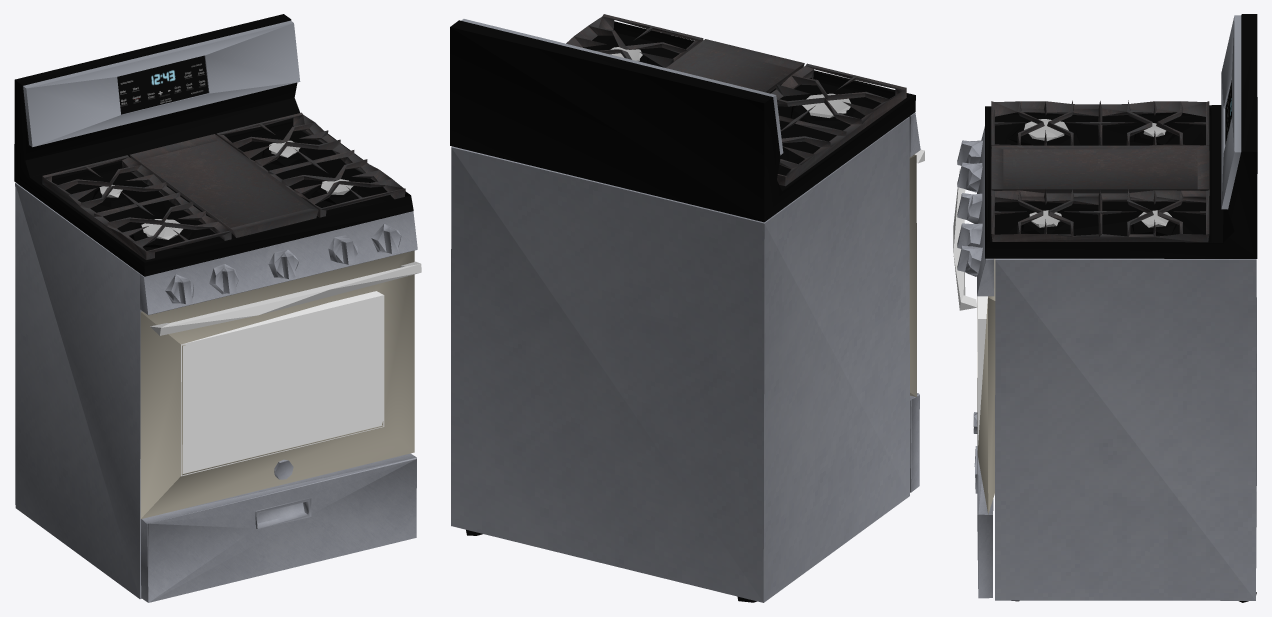
The model's file is stove.glb.
The picture shows the model from 3 angles, left to right: view 1: azimuth 30°, elevation 25°; view 2: azimuth 150°, elevation 25°; view 3: azimuth 270°, elevation 25°; orthographic projection. The views are drawn at different scales.
Visible parts, largest first — view 1: Stove_01, Stove_Top, Stove_Glass_Door, Stove_Door, Broiler_Door, Stove_Electronic, Stove_Plate, Stove_Knob_Panel, Stove_Grate_01, Stove_Grate_02, ControlPanel, Stove_Handle.001 (+6 smaller); view 2: Stove_01, Stove_Top, Stove_Grate_01, Stove_Plate, Stove_Grate_02, Stove_Door, Stove_Electronic, Broiler_Door, Burner_01; view 3: Stove_01, Stove_Top, Stove_Plate, Stove_Grate_02, Stove_Grate_01, Stove_Electronic, Stove_Door, Broiler_Door, Stove_Knob_Panel, Stove_Handle.001, Stove_Glass_Door, Knob.003 (+5 smaller).
Part boxes in pixels (x1,y1,x2,y2): Stove_01: (15,183,141,598); Stove_Top: (14,14,413,276); Stove_Glass_Door: (181,291,384,476); Stove_Door: (140,250,414,518); Broiler_Door: (141,453,416,602); Stove_Electronic: (23,20,300,147); Stove_Plate: (130,134,318,237); Stove_Knob_Panel: (140,211,417,315); Stove_Grate_01: (42,155,231,259); Stove_Grate_02: (216,112,405,217); ControlPanel: (117,55,208,114); Stove_Handle.001: (150,261,421,335); Stove_01: (451,117,909,602); Stove_Top: (450,20,915,222); Stove_Grate_01: (771,63,906,186); Stove_Plate: (666,39,804,93); Stove_Grate_02: (566,14,703,67); Stove_Door: (909,154,916,396); Stove_Electronic: (461,19,783,155); Broiler_Door: (910,393,919,492); Burner_01: (802,93,850,117); Stove_01: (995,258,1256,600); Stove_Top: (985,14,1257,258); Stove_Plate: (991,145,1209,195); Stove_Grate_02: (991,189,1209,242); Stove_Grate_01: (991,100,1209,146); Stove_Electronic: (1221,15,1241,209); Stove_Door: (977,258,995,514); Broiler_Door: (977,378,993,598); Stove_Knob_Panel: (977,126,994,296); Stove_Handle.001: (953,168,977,310); Stove_Glass_Door: (978,296,987,444); Knob.003: (957,245,982,276).
Size of the model in its own units: 0.5948 by 0.8995 by 0.5453.
Materials: 9 (4 with a texture image).
